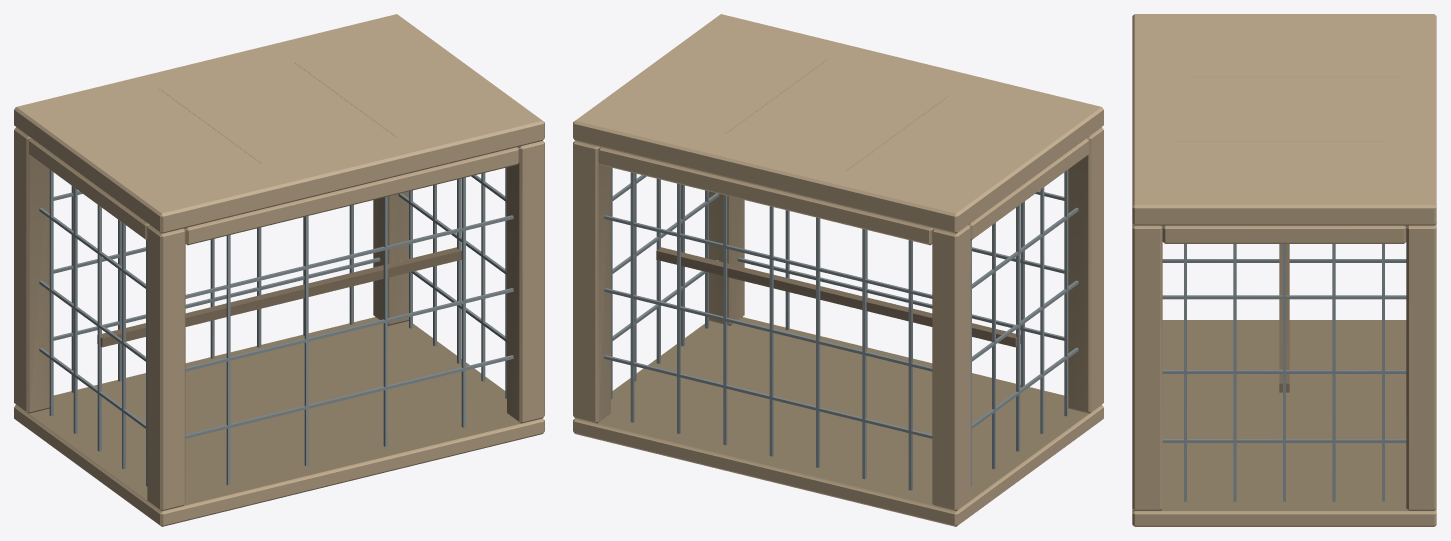
File: furn_insect_case_desk__oak.glb
3 views of the same model, side by side, from view 1: azimuth 30°, elevation 25°; view 2: azimuth 150°, elevation 25°; view 3: azimuth 270°, elevation 25° (orthographic). The views are drawn at different scales.
Bounding box in the file's own units: 0.36 × 0.2801 × 0.24.
